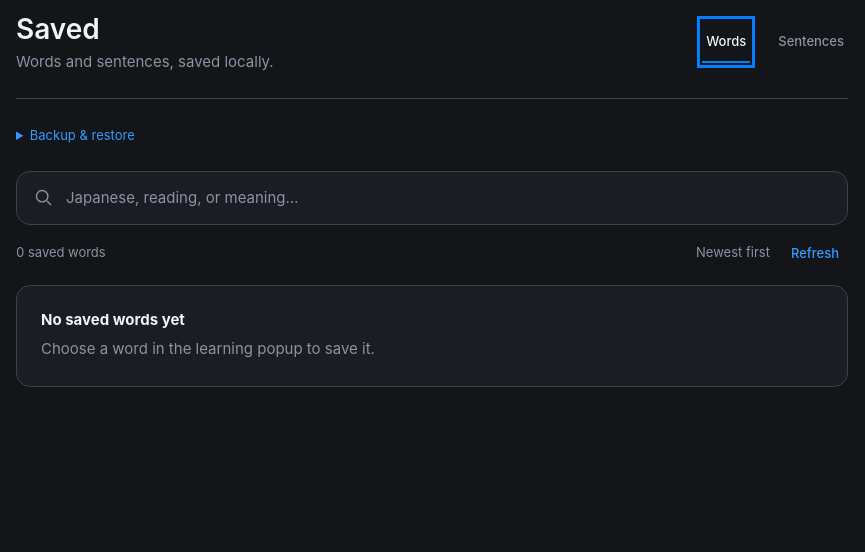
Scenario: treats native cancellation of Export backup as a no-op
The width and height of the screenshot is (865, 552).
Click the heading "Backup & restore": (82, 135) [30,127,135,143]
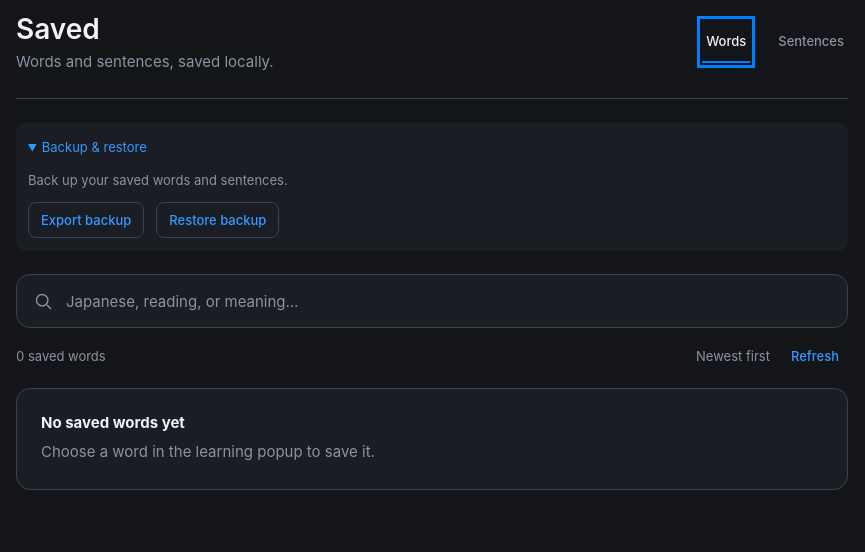
Click the button "Export backup": (86, 220) [28,202,144,238]
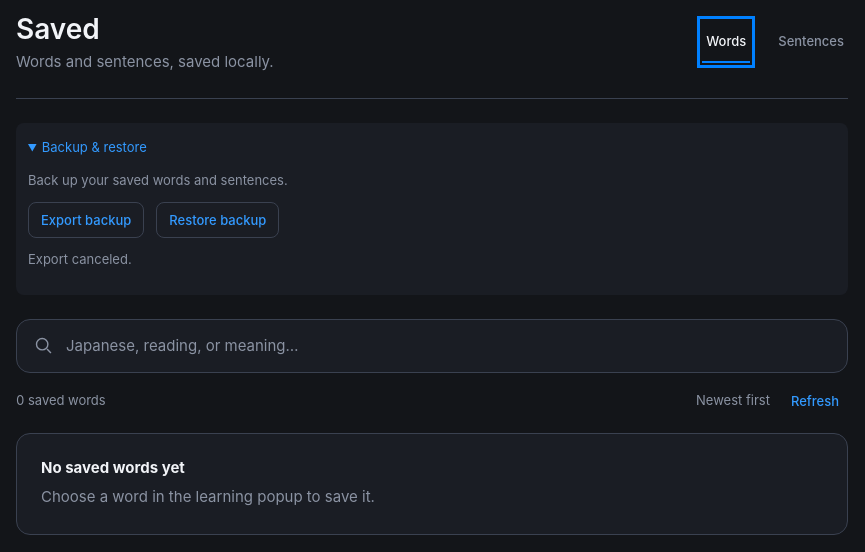
Expected: the text "Export canceled." is shown, [28,251,132,267]
